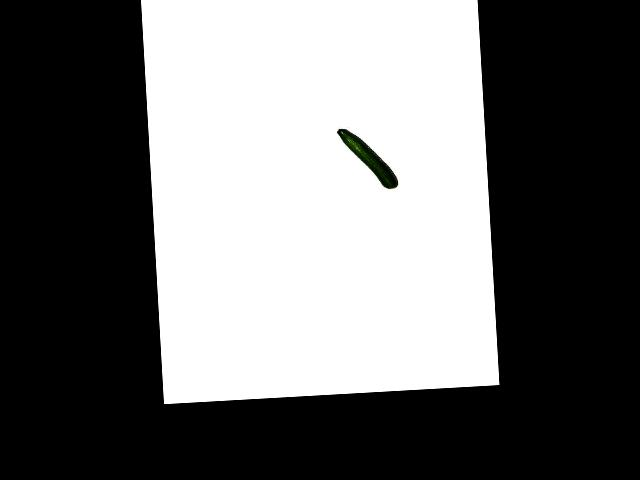cucumber: (337, 126, 398, 191)
